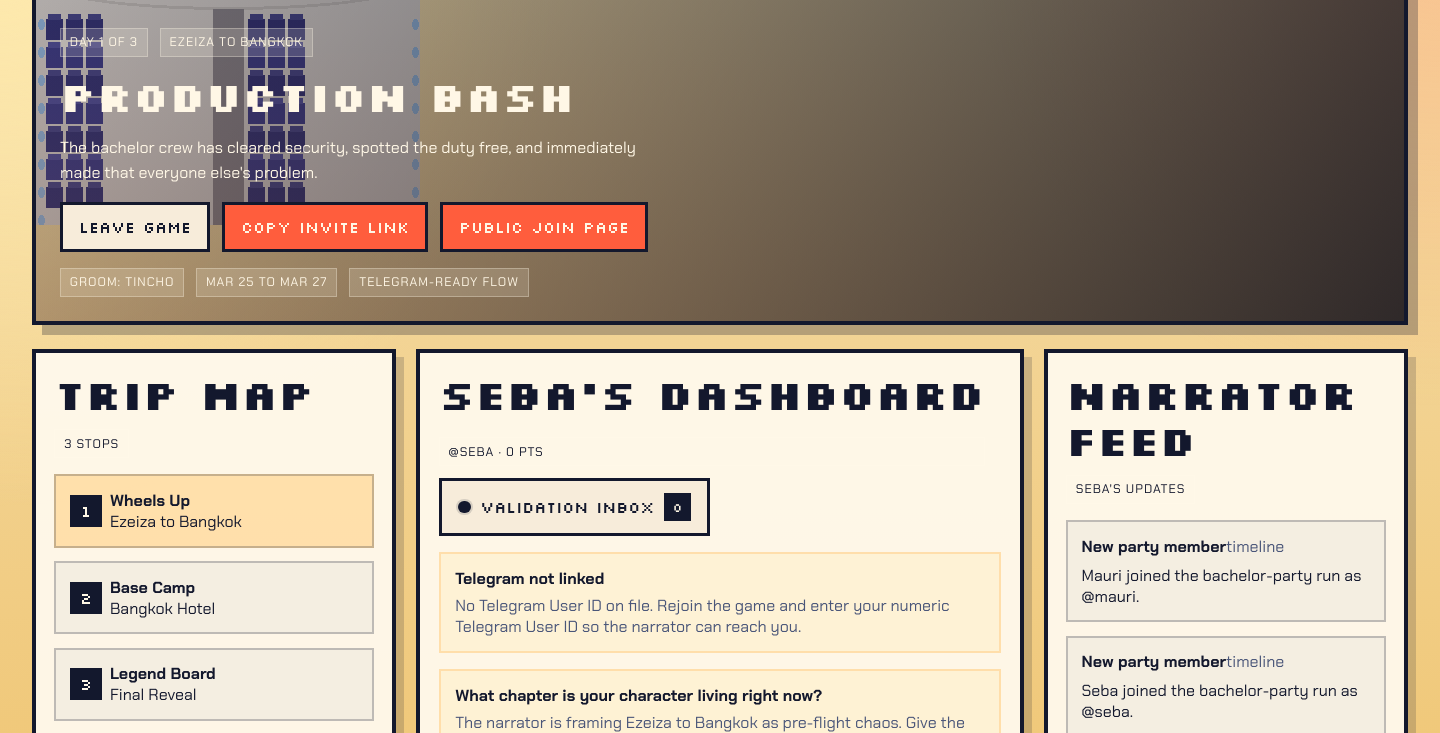
GameClient validation inbox › opens an empty inbox state when there are no pending validations
Check: the text "0" is shown, box [664, 493, 691, 520]
Click the button "Validation inbox 0". click: (574, 507)
box: [439, 478, 710, 536]
(page scrolled)
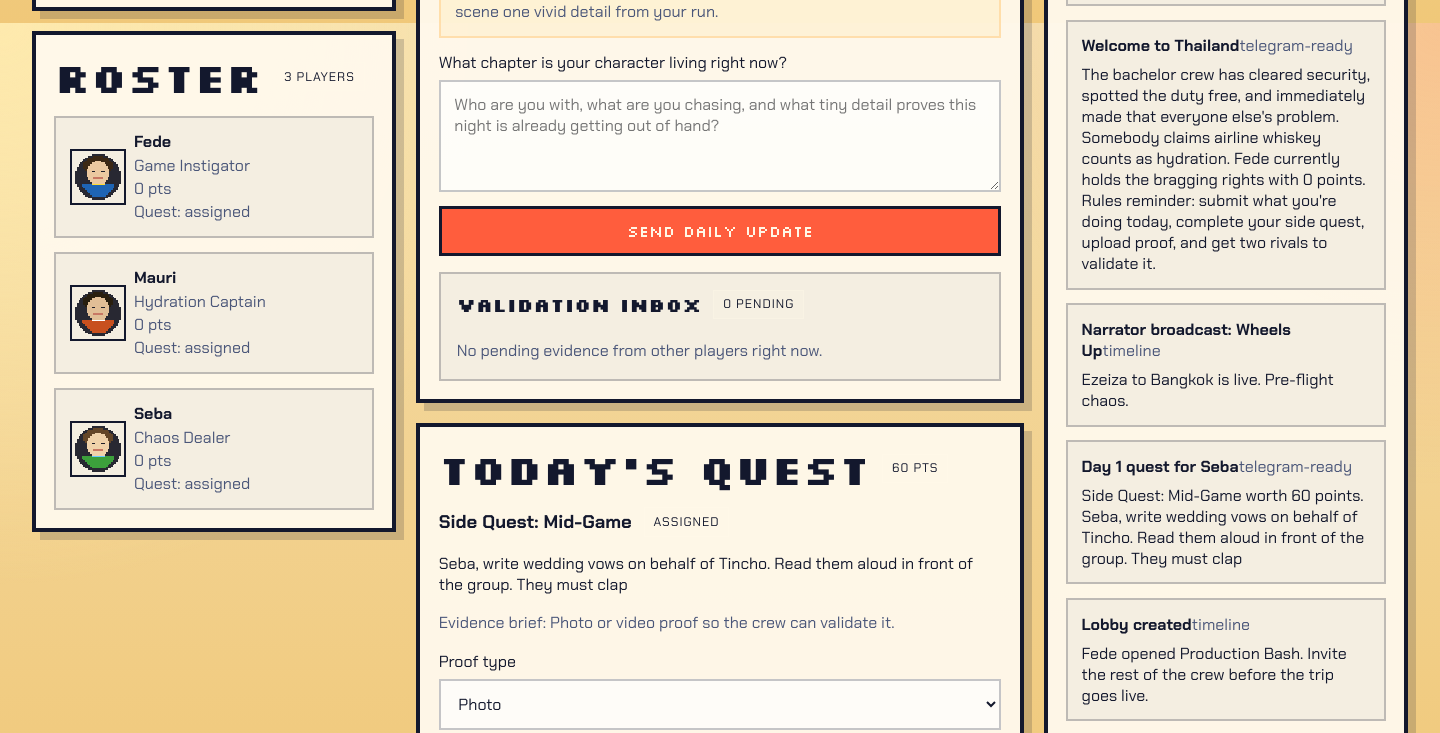
Check: the text "No pending evidence from other players right now." is shown, box [457, 340, 822, 361]
